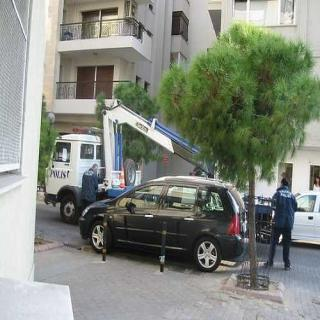Towing_truck: (42, 98, 214, 224)
